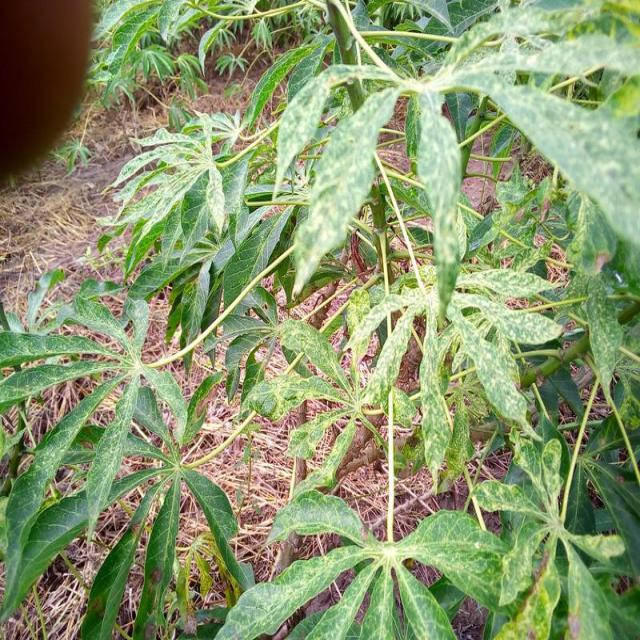cassava leaf: (1, 1, 638, 638), (290, 83, 399, 300), (414, 83, 464, 321)
